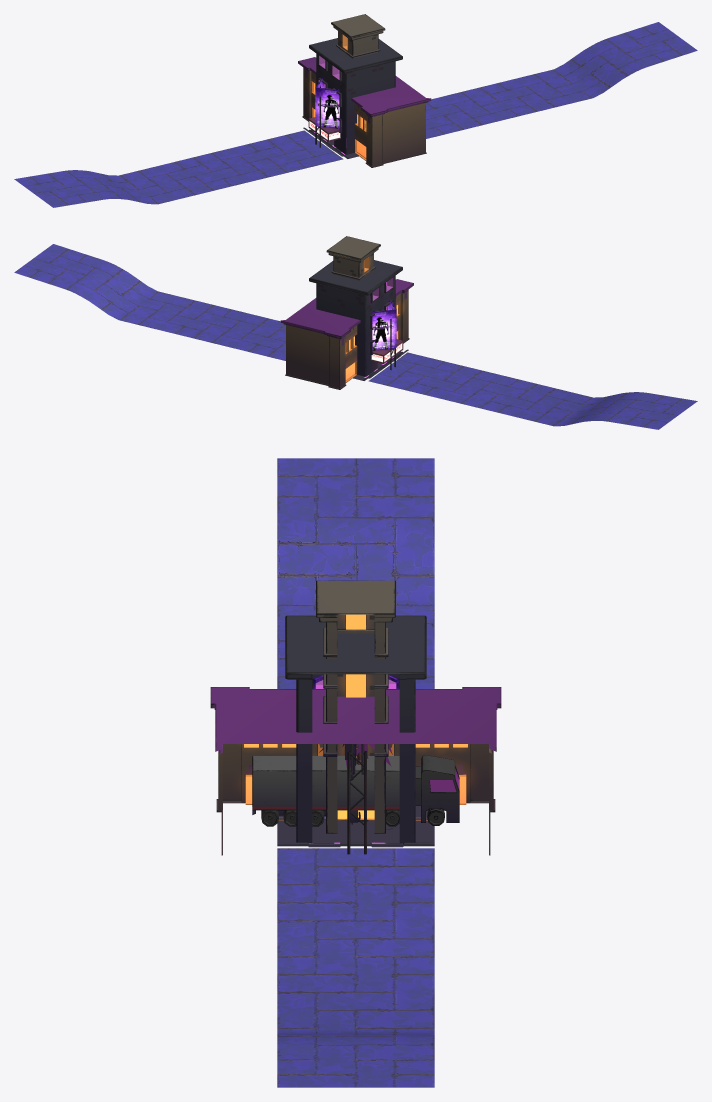
File: Enviroment2Optimized.gltf
3 views of the same model, one above another, from view 1: azimuth 30°, elevation 25°; view 2: azimuth 150°, elevation 25°; view 3: azimuth 270°, elevation 25° (orthographic). The views are drawn at different scales.
Visible parts, largest first — view 1: SideRailing, MovieTheater, ShortBuilding, TallBuilding; view 2: SideRailing, MovieTheater, ShortBuilding, TallBuilding; view 3: SideRailing, MovieTheater, ShortBuilding, TallBuilding, Truck, HighWay, HighWaySign.
Part boxes in pixels (box(x1,y1,x2,y2)): SideRailing: box(14, 22, 697, 207); MovieTheater: box(298, 57, 431, 167); ShortBuilding: box(309, 38, 402, 154); TallBuilding: box(331, 14, 385, 58); SideRailing: box(14, 244, 697, 429); MovieTheater: box(280, 279, 413, 389); ShortBuilding: box(309, 260, 402, 376); TallBuilding: box(326, 236, 380, 280); SideRailing: box(277, 458, 434, 1087); MovieTheater: box(210, 675, 501, 855); ShortBuilding: box(285, 615, 426, 843); TallBuilding: box(316, 580, 395, 833); Truck: box(252, 755, 459, 826); HighWay: box(277, 806, 434, 847); HighWaySign: box(345, 744, 366, 854).
Size of the model in its own units: 125 by 20.82 by 24.47.
12 materials, 12 textured.
